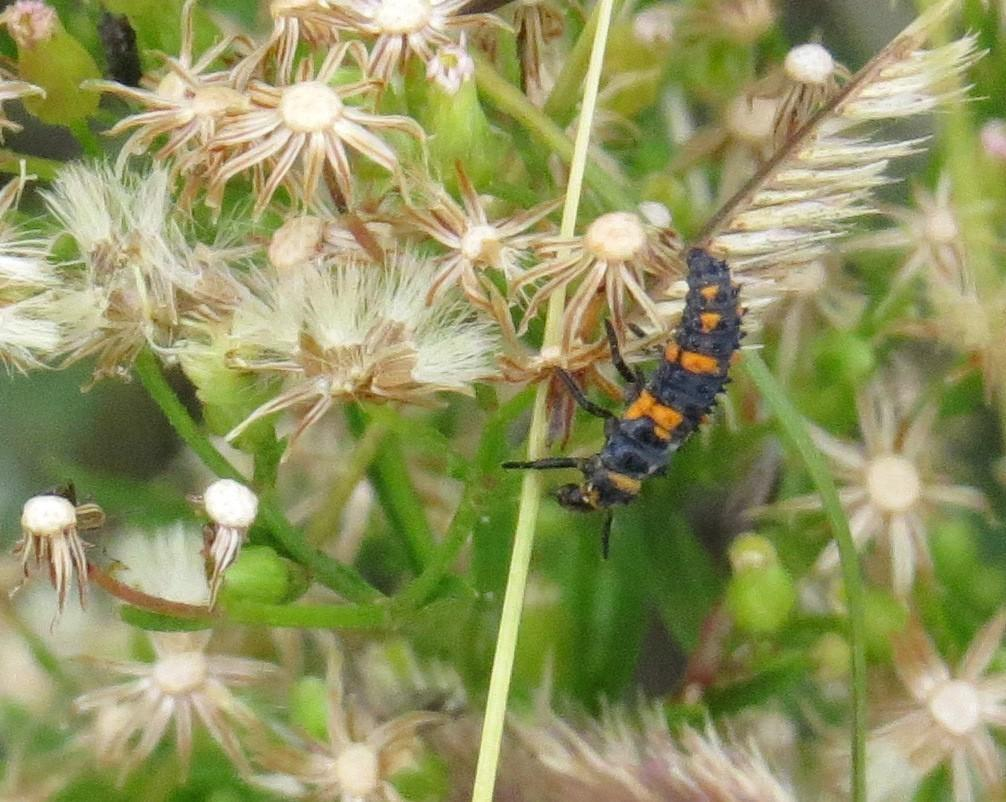ladybug: (499, 243, 757, 567)
